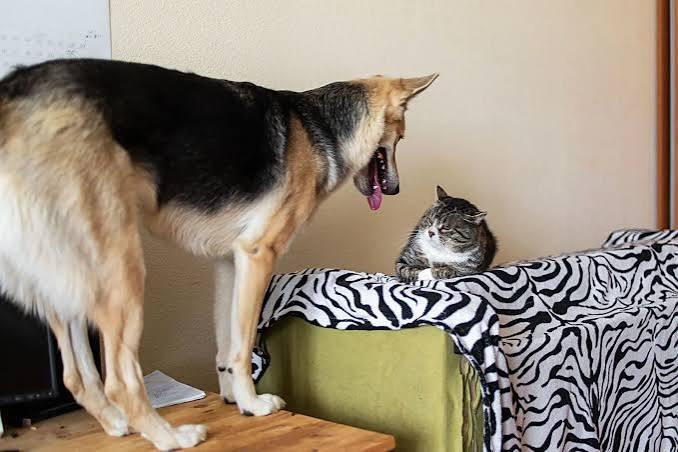adult_dog: (0, 57, 442, 452)
non-dog: (394, 184, 499, 285)
